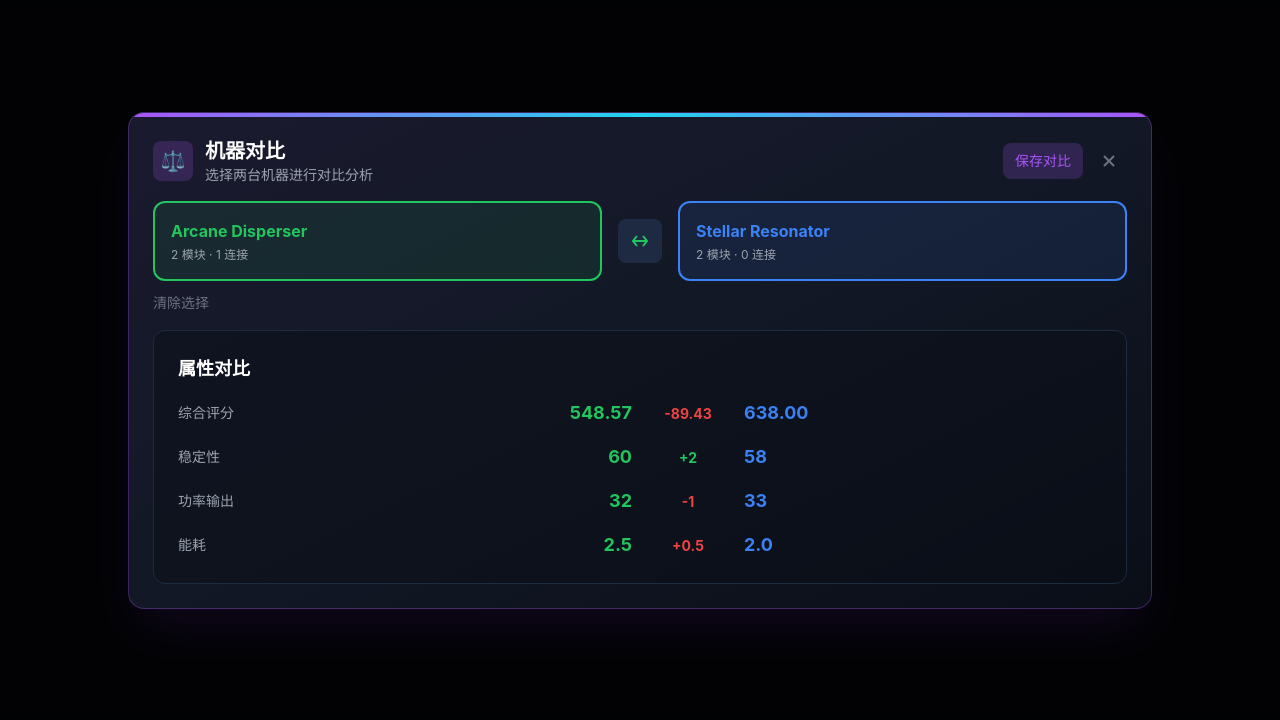
it: MachineComparisonPanel › Save Comparison Dialog › closes dialog when cancelling save
Click the button with test id "save-comparison-button": (1043, 160) x1=1003 y1=142 x2=1083 y2=178
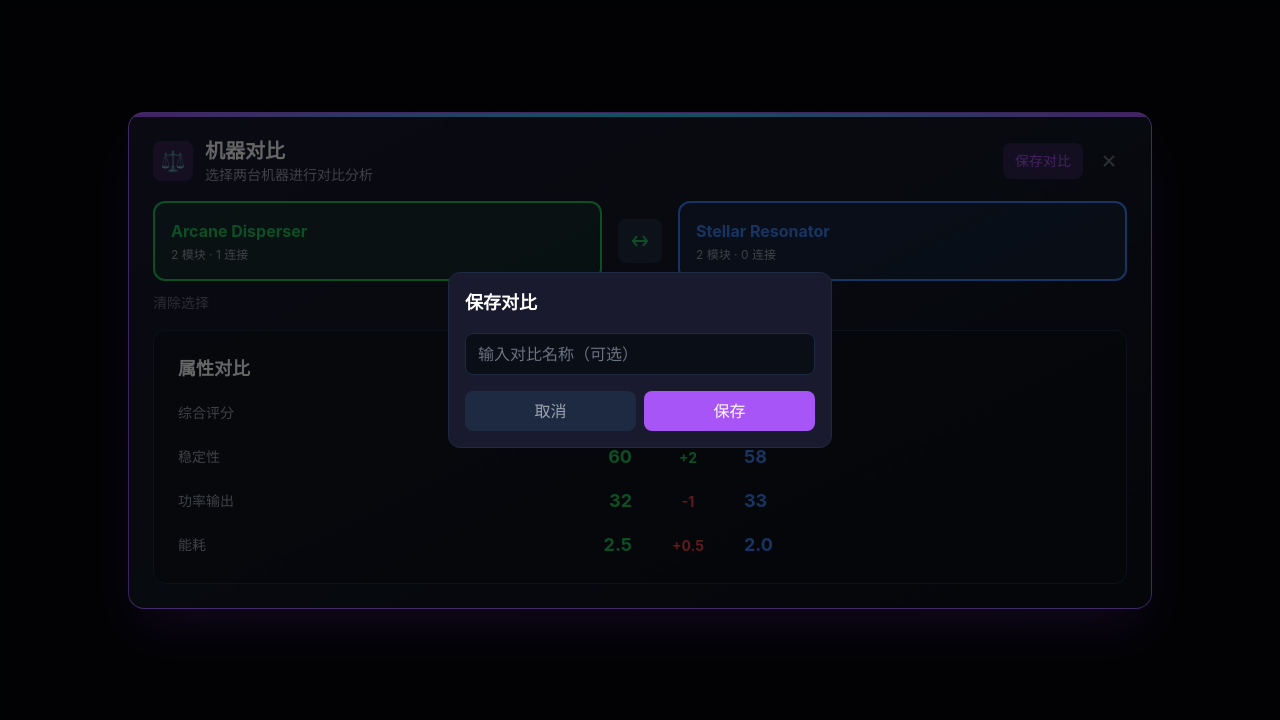
Click the button with test id "cancel-save-button": (550, 411) x1=465 y1=391 x2=636 y2=431
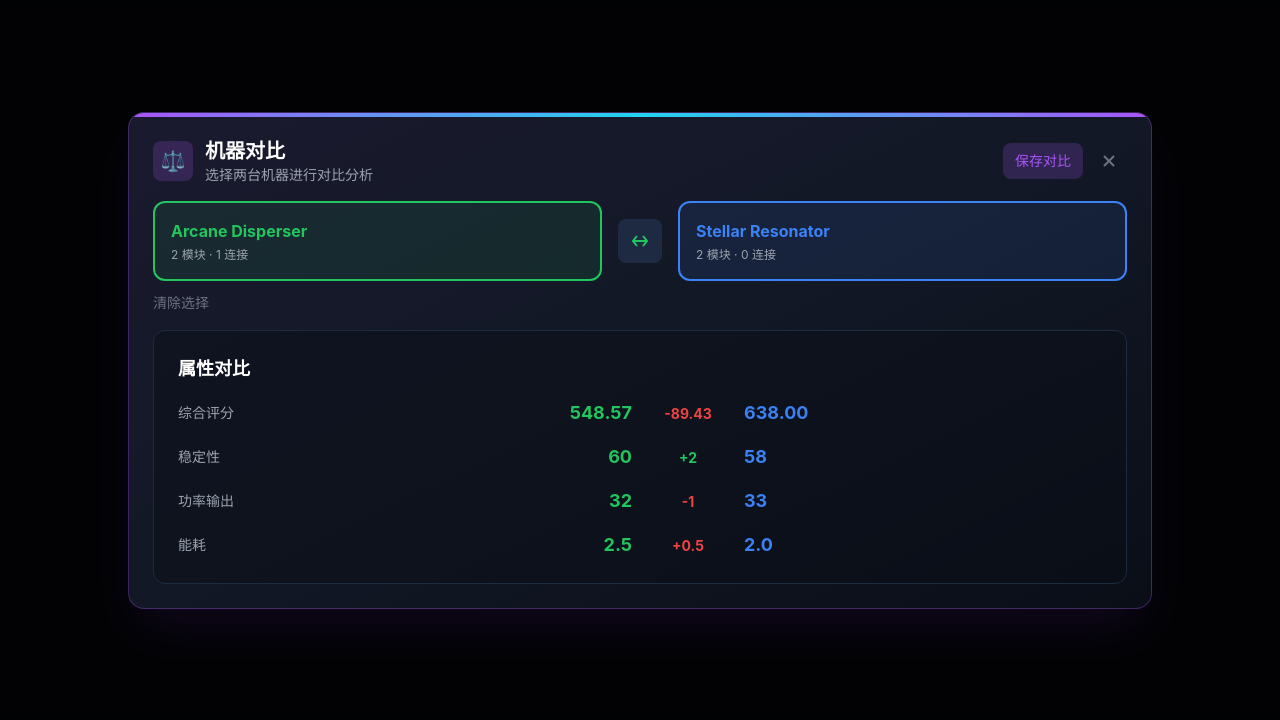
Result: the field with test id "comparison-name-input" is gone
